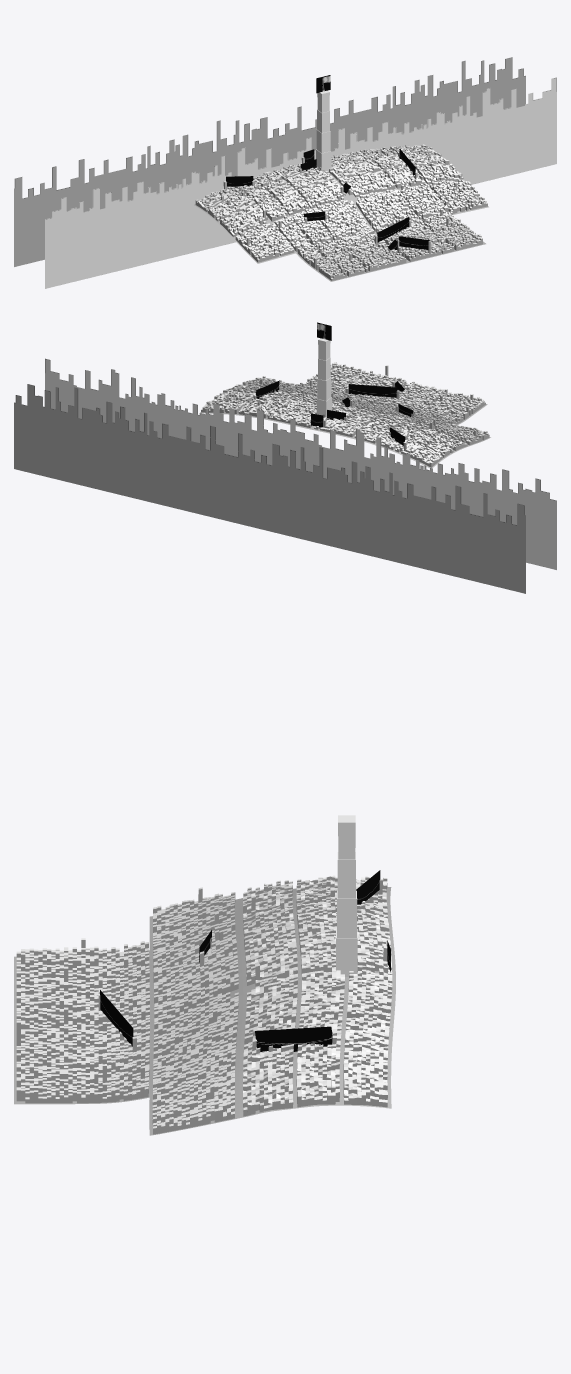
Rendered from City.fbx.
3 views of the same model, one above another, from view 1: azimuth 30°, elevation 25°; view 2: azimuth 150°, elevation 25°; view 3: azimuth 270°, elevation 25° (orthographic). The views are drawn at different scales.
Parts seen in each view (by area): view 1: Backgound1, Houses, Backgound2, SkyScrapper, Ground, wire2.001; view 2: Backgound2, Backgound1, Houses, SkyScrapper, Ground, wire2.001; view 3: Houses, Ground, SkyScrapper, wire.003.
Part boxes in pixels (x1=…): Backgound1: x1=45, y1=77, x2=556, y2=288; Houses: x1=195, y1=144, x2=487, y2=280; Backgound2: x1=14, y1=57, x2=525, y2=266; SkyScrapper: x1=316, y1=90, x2=331, y2=171; Ground: x1=194, y1=162, x2=488, y2=281; wire2.001: x1=377, y1=217, x2=409, y2=242; Backgound2: x1=14, y1=384, x2=525, y2=593; Backgound1: x1=45, y1=358, x2=556, y2=569; Houses: x1=201, y1=362, x2=489, y2=467; SkyScrapper: x1=316, y1=338, x2=331, y2=417; Ground: x1=200, y1=404, x2=490, y2=468; wire2.001: x1=348, y1=384, x2=397, y2=397; Houses: x1=16, y1=875, x2=392, y2=1134; Ground: x1=14, y1=886, x2=395, y2=1135; SkyScrapper: x1=336, y1=815, x2=357, y2=976; wire.003: x1=255, y1=1026, x2=332, y2=1051.
Size of the model in its own units: 53473 by 16749 by 25255.
7 materials, 5 textured.
